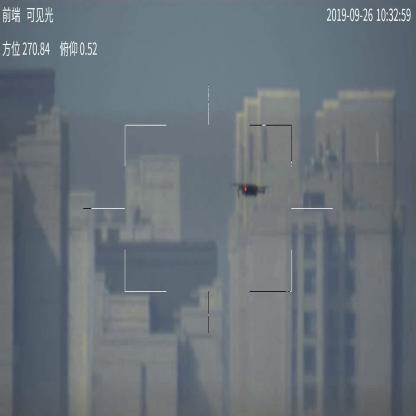uav: (231, 180, 268, 200)
